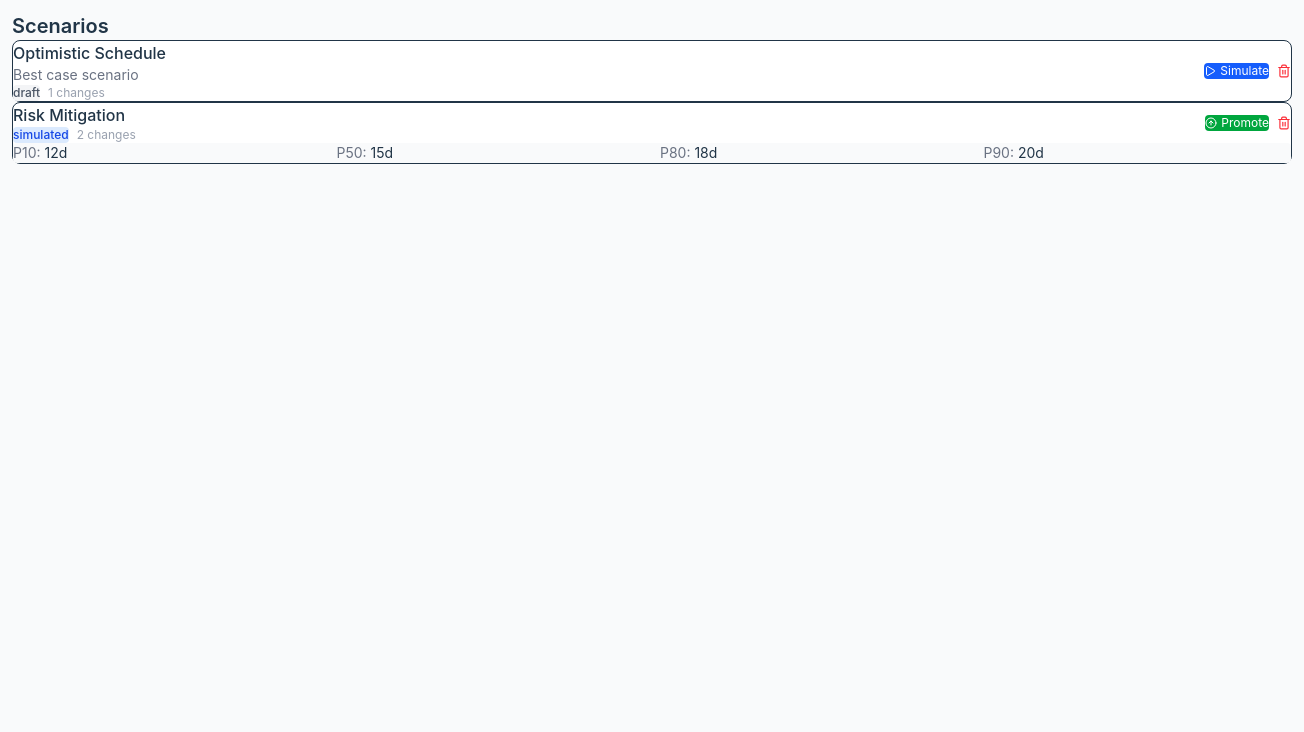
Test: ScenarioList › delete scenario › shows error toast when delete fails
This screenshot has width=1304, height=732.
What coordinates should you click on to do the following:
click the button titled "Delete"
I would click on:
 (1284, 71)
Its box is [1277,64,1291,78].
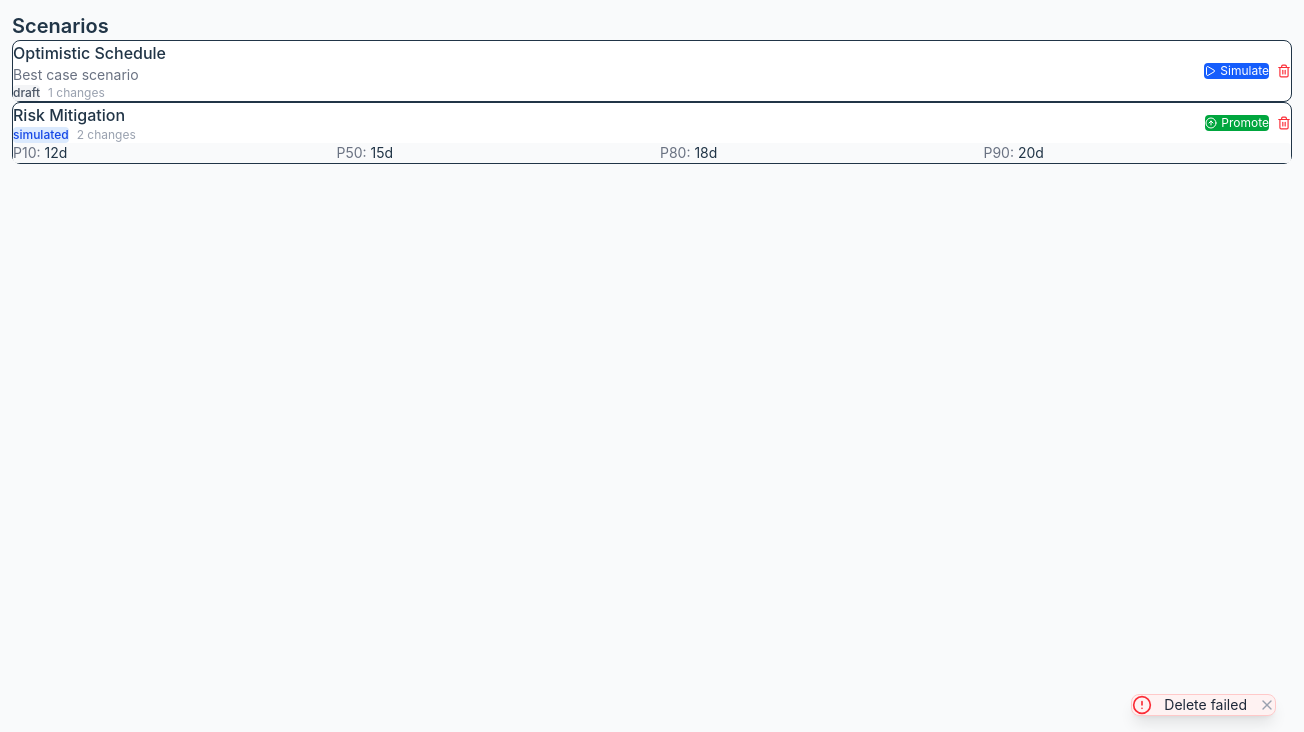
Result: the text "Delete failed" is shown at [1164,695,1247,715]
